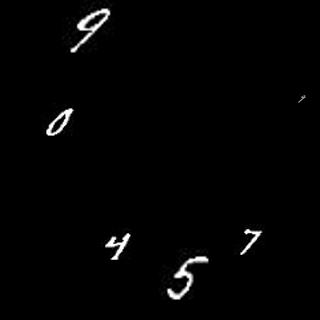five: (166, 255, 214, 298)
four: (104, 229, 128, 261)
nine: (69, 7, 109, 55)
seven: (241, 226, 261, 255), (295, 91, 309, 104)
zero: (45, 103, 77, 136)
